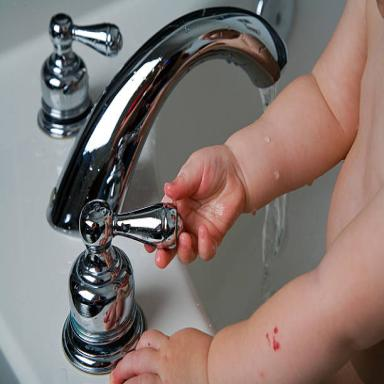Hemangiome: (273, 336, 280, 352), (274, 326, 278, 334)
